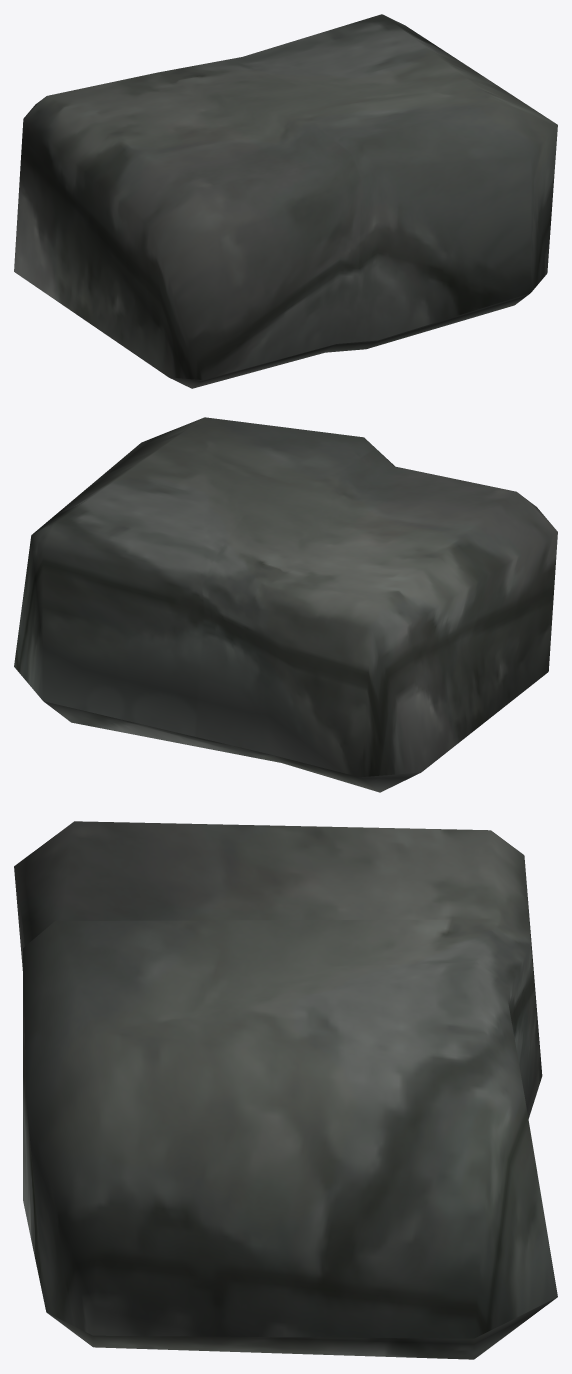
Rendered from sewer_brick001.FBX.
The picture shows the model from 3 angles, top to bottom: view 1: azimuth 30°, elevation 25°; view 2: azimuth 150°, elevation 25°; view 3: azimuth 270°, elevation 25°; orthographic projection. The views are drawn at different scales.
Parts seen in each view (by area): view 1: sewer_brick001; view 2: sewer_brick001; view 3: sewer_brick001.
Part boxes in pixels (box(x1,y1,x2,y2)): sewer_brick001: box(14, 14, 557, 388); sewer_brick001: box(14, 417, 557, 792); sewer_brick001: box(14, 821, 557, 1359).
Size of the model in its own units: 134 by 68.77 by 103.
